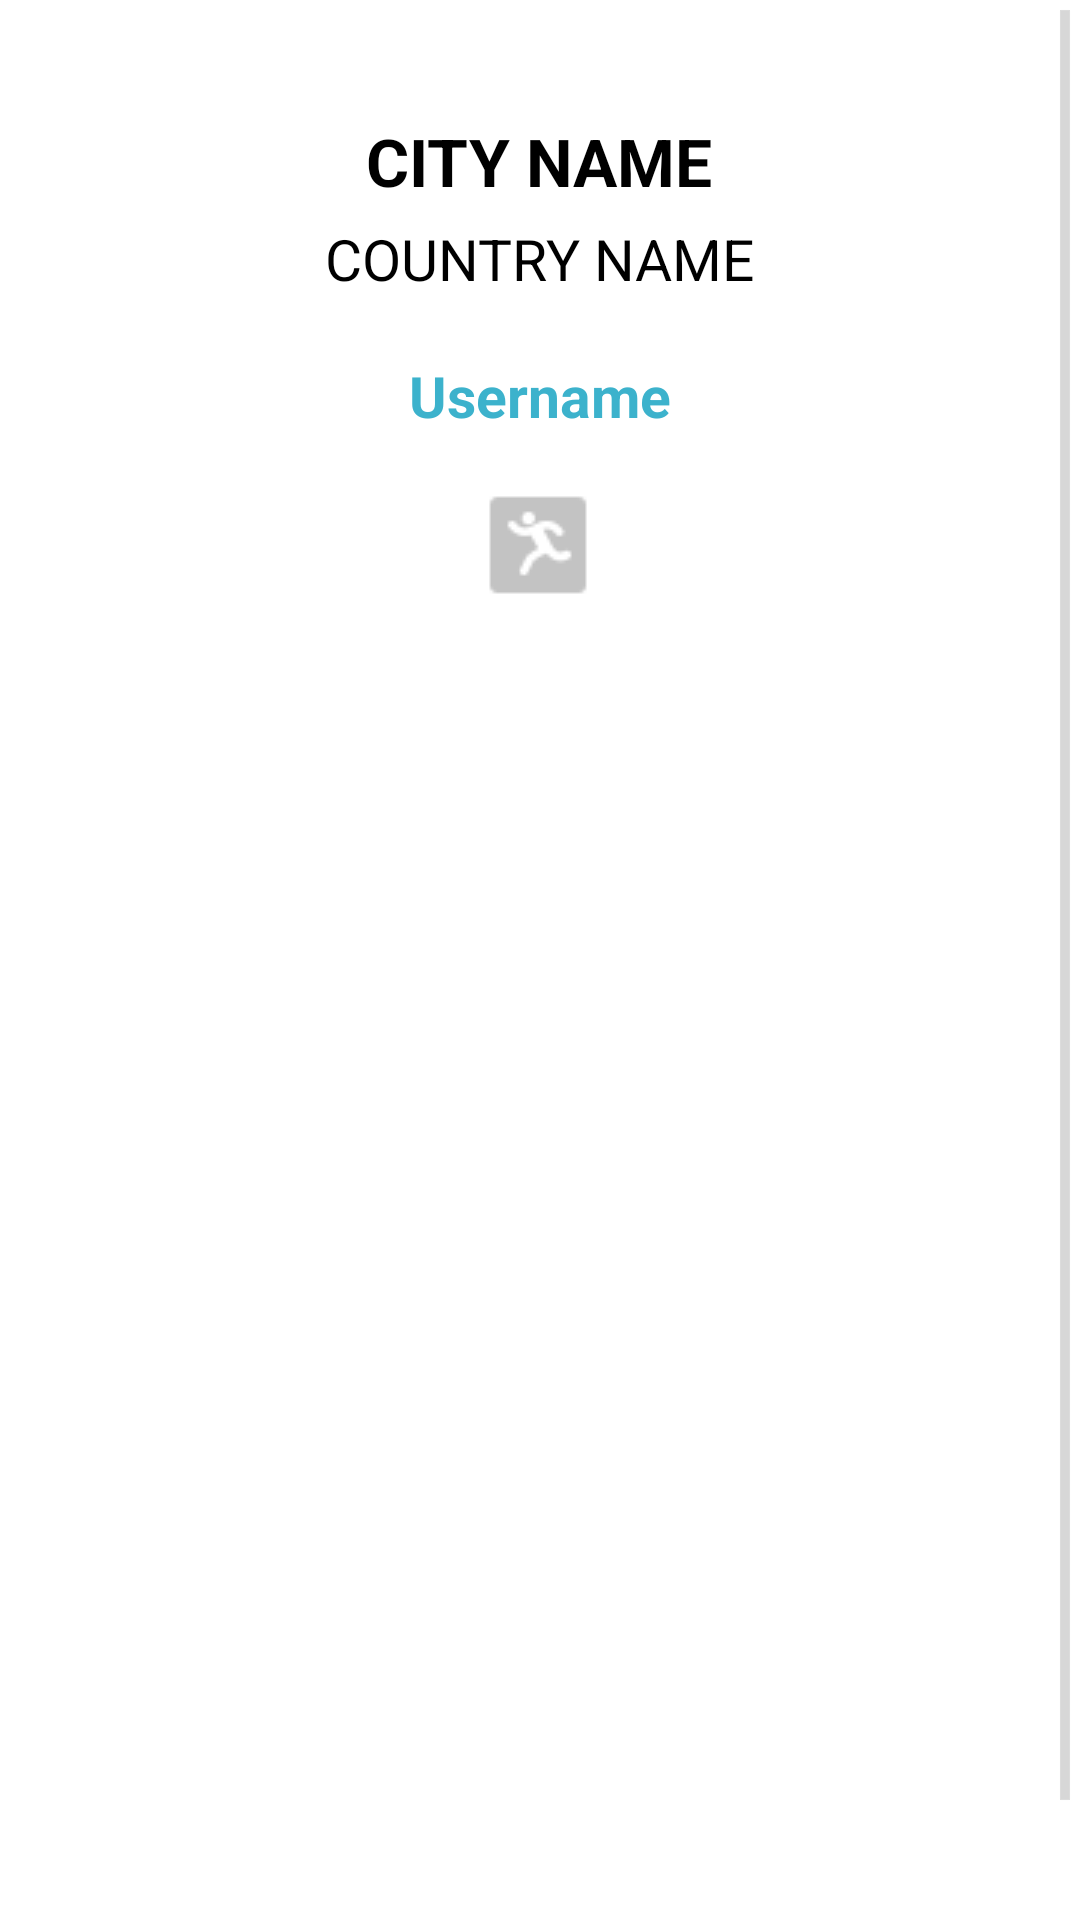

Locate icon controls on the screen. Image size 1080*1920, boxes as (left=x1, top=y1, right=x2, bottom=y2).
activities: (left=490, top=497, right=586, bottom=593)
